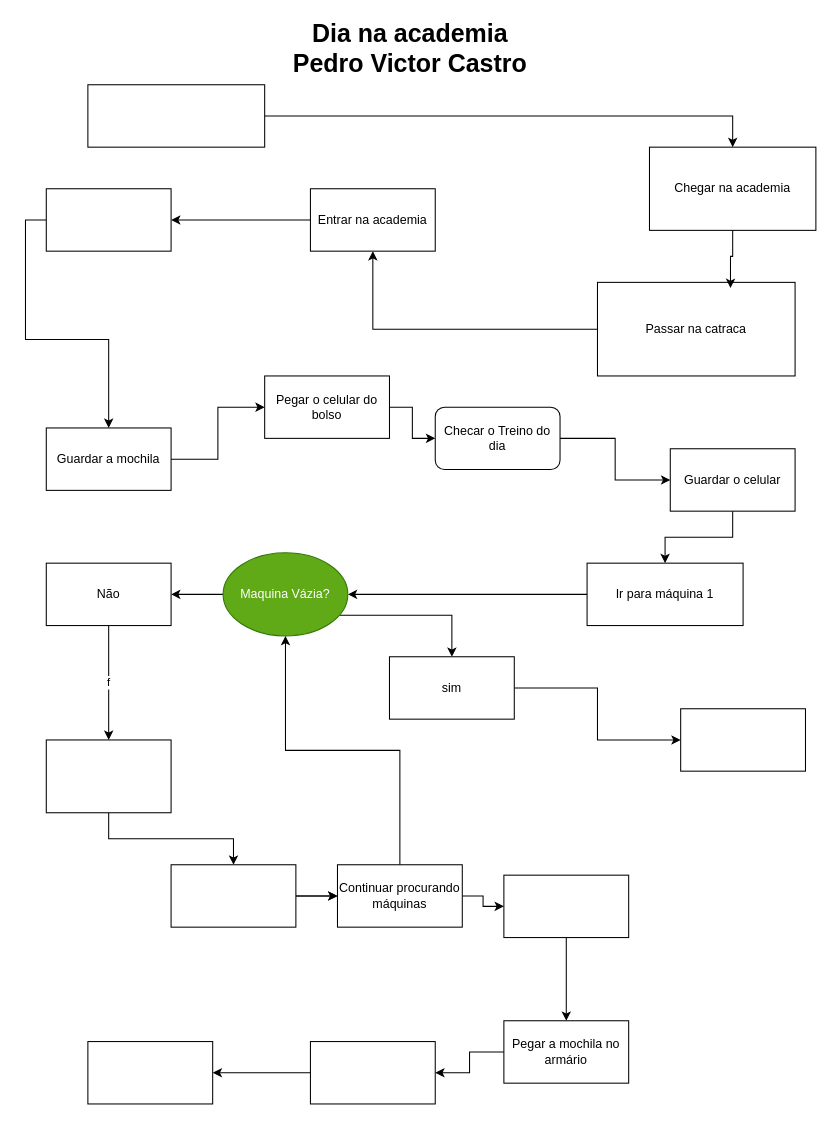
The diagram is 834 pixels wide and 1122 high, and some of its shapes have lost their labels. The shapes that lost their labels are listed below. From the top down, each one's box as (x1, y1, x2, y2) in pixels, then its label:
(87, 84, 265, 147): Sair de casa
(45, 188, 171, 251): Ir ao armário
(680, 708, 805, 771): ir para próxima máquina
(45, 739, 171, 813): Fazer exercício com 3 repetições
(170, 864, 296, 927): Terminar
(503, 874, 629, 938): Repetir processo até finalizar
(309, 1041, 435, 1104): Sair da academia
